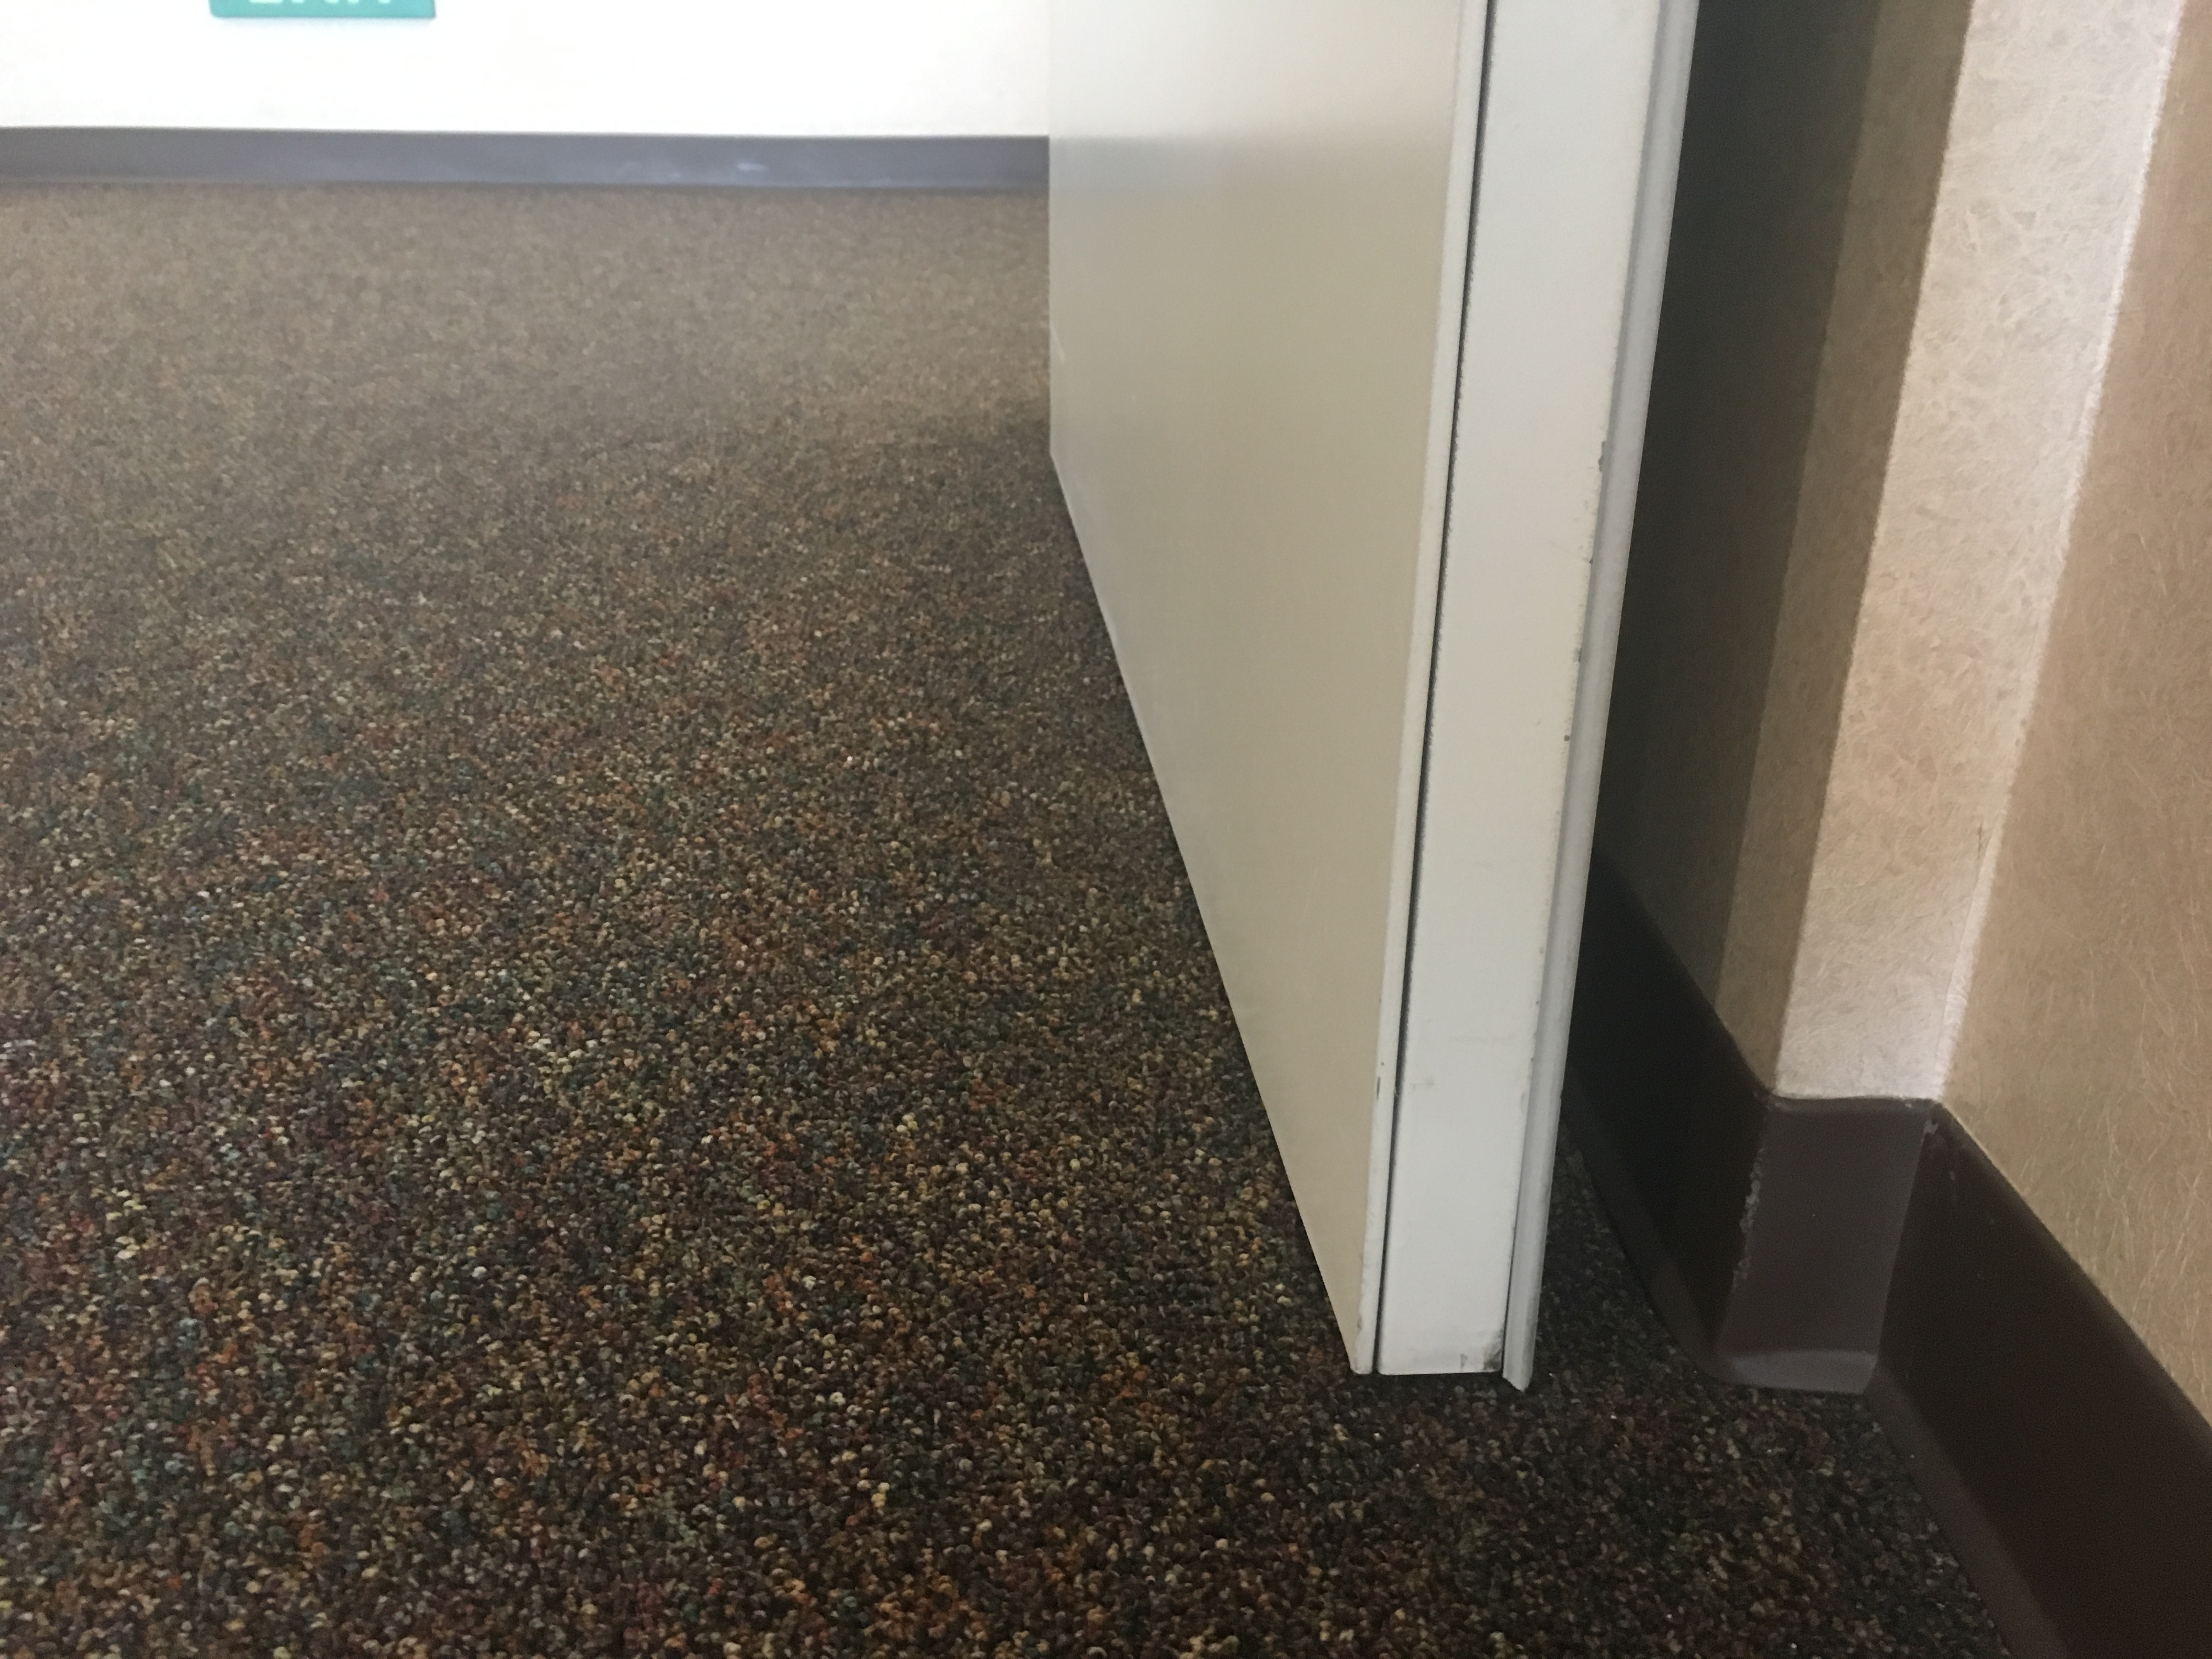Obstacle: (1038, 3, 1646, 1392), (1719, 12, 2188, 1401), (0, 2, 1052, 202)
